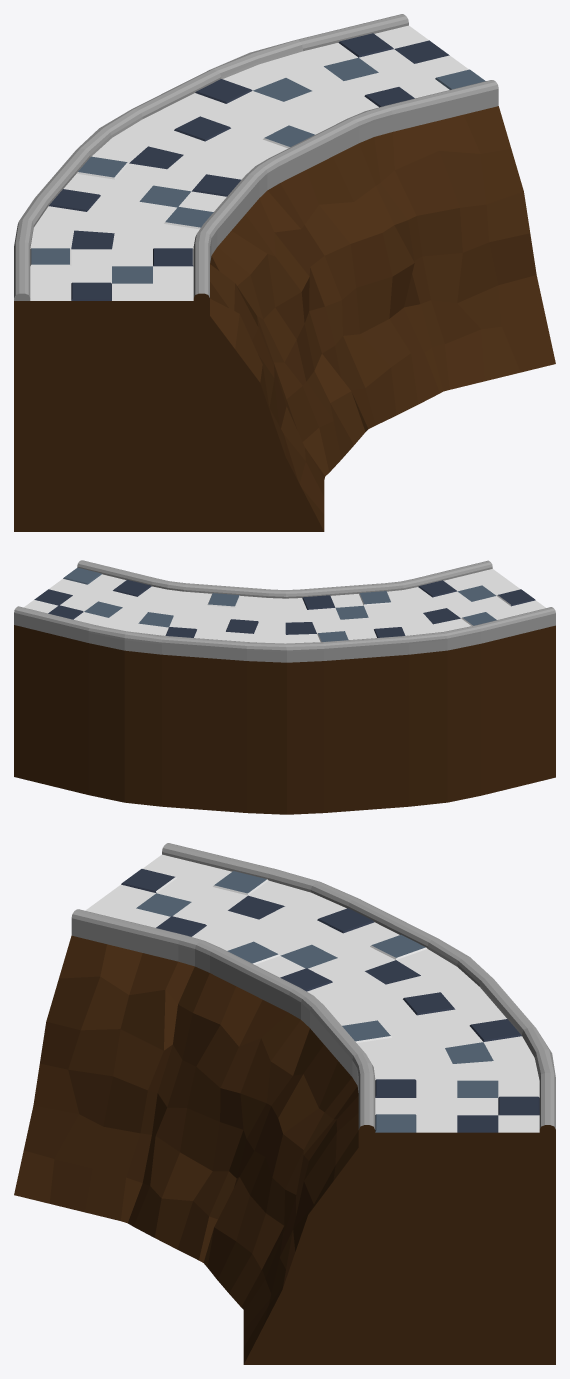
Rendered from road_curveL.fbx.
The picture shows the model from 3 angles, top to bottom: view 1: azimuth 30°, elevation 25°; view 2: azimuth 150°, elevation 25°; view 3: azimuth 270°, elevation 25°; orthographic projection. The views are drawn at different scales.
Parts seen in each view (by area): view 1: road_line_curveL; view 2: road_line_curveL; view 3: road_line_curveL.
Part boxes in pixels (x1,y1,x2,y2): road_line_curveL: (14,14,555,531); road_line_curveL: (14,560,555,814); road_line_curveL: (14,843,555,1364).
Size of the model in its own units: 818 by 323 by 659.
